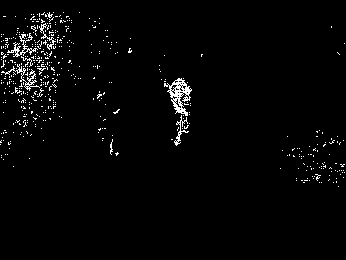person: (165, 74, 193, 148)
